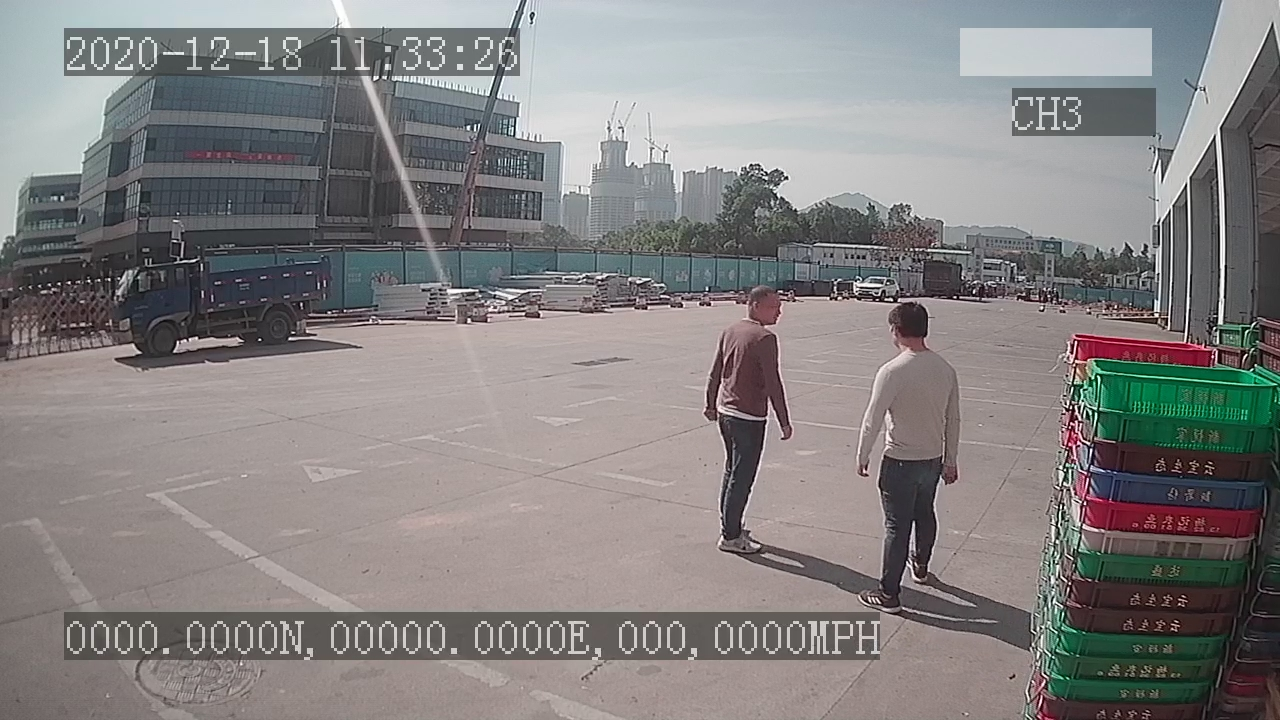person: (855, 301, 962, 615), (700, 283, 794, 555)
